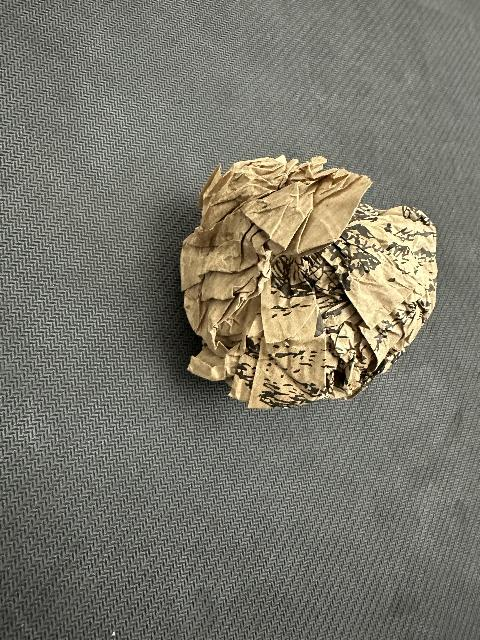Kagit: (175, 149, 442, 414)
